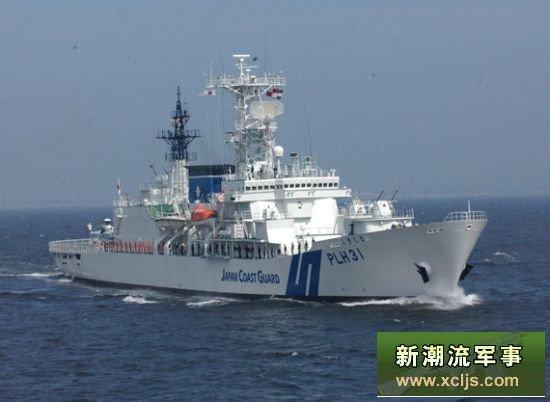warship: (44, 40, 493, 301)
